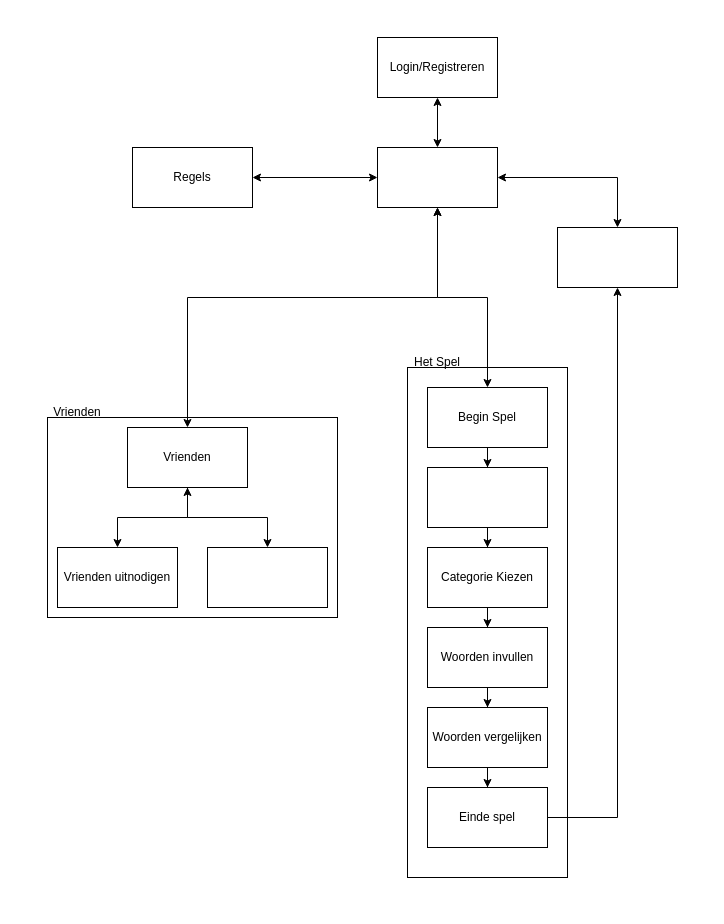
The diagram is 724 pixels wide and 924 high, and some of its shapes have lost their labels. The shapes that lost their labels are listed below. From the top down, each one's centre as x and y in pixels, then its label:
At point 437,177: "Home-page".
At point 617,257: "Scores".
At point 487,497: "Spelers toevoegen".
At point 267,577: "Vrienden zoeken".
